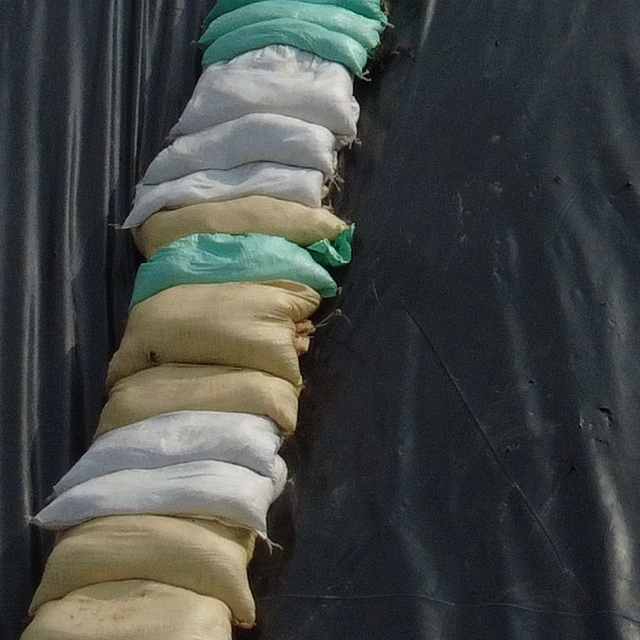sandbag: (29, 516, 257, 629), (108, 282, 320, 388), (33, 460, 287, 536), (55, 412, 280, 497), (131, 226, 354, 307), (170, 47, 359, 141), (97, 365, 302, 437), (142, 114, 336, 186), (120, 164, 324, 230), (132, 197, 346, 259), (21, 581, 232, 640), (200, 0, 385, 54), (202, 21, 369, 77), (206, 0, 383, 24)
